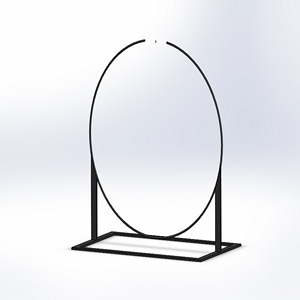circle: (69, 36, 243, 263)
